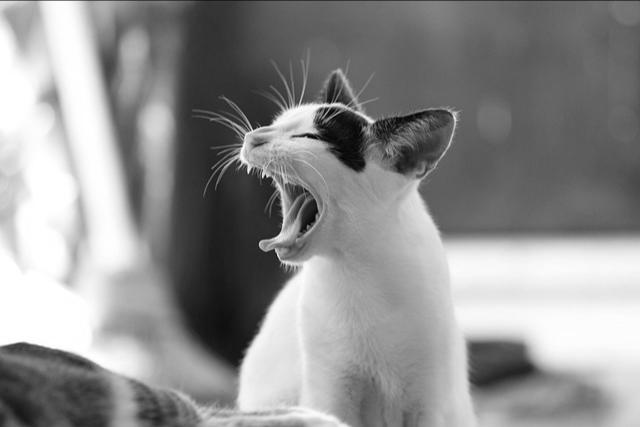Non_Gorille: (74, 5, 541, 427)
